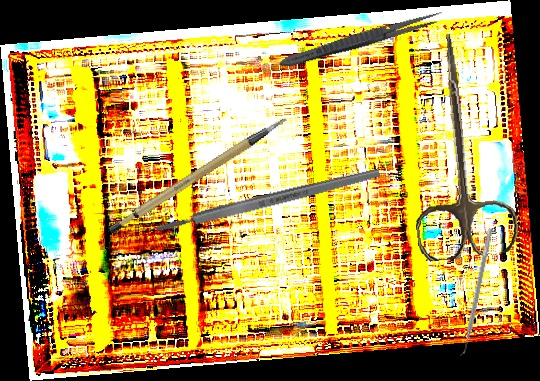Dressing Forceps: (275, 6, 447, 73)
Iris Scissors: (393, 28, 521, 263)
Scalpel Handle: (96, 116, 303, 237), (154, 166, 382, 236)
Spatula Surgical: (457, 227, 493, 358)
